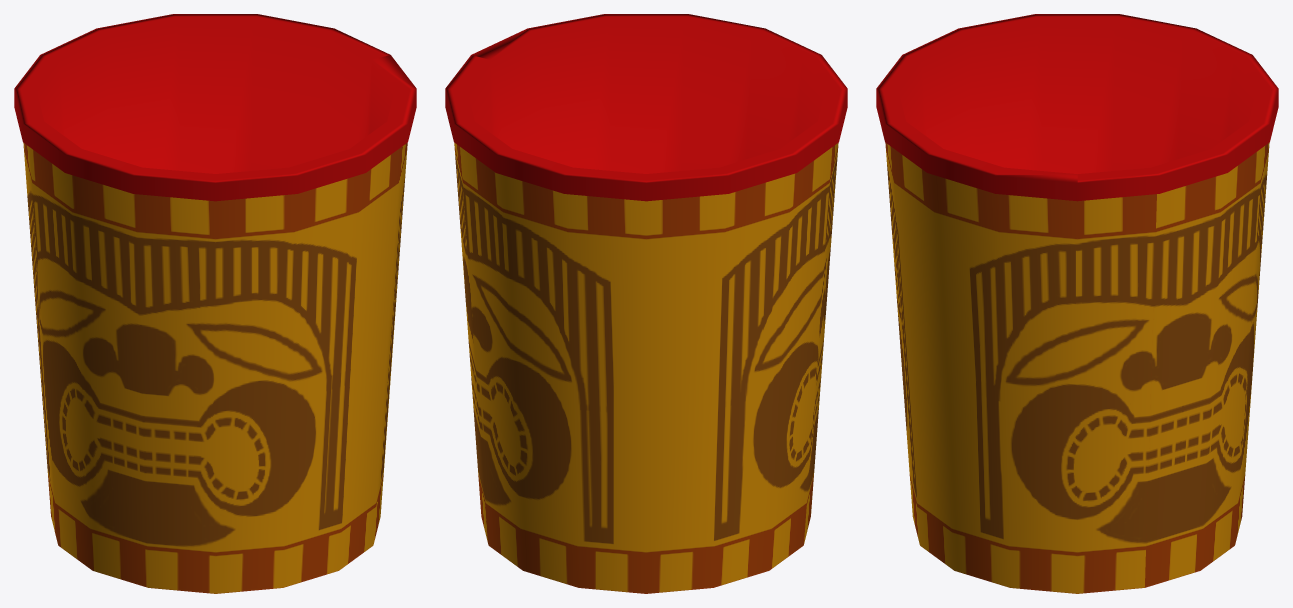
File: BeARPong_Cup_V.03.04.fbx
The picture shows the model from 3 angles, left to right: view 1: azimuth 30°, elevation 25°; view 2: azimuth 150°, elevation 25°; view 3: azimuth 270°, elevation 25°; orthographic projection.
Visible parts, largest first — view 1: pCylinder1; view 2: pCylinder1; view 3: pCylinder1.
Part boxes in pixels (bbox=[...]): pCylinder1: bbox=[14, 14, 416, 593]; pCylinder1: bbox=[445, 14, 847, 593]; pCylinder1: bbox=[876, 14, 1278, 593].
Size of the model in its own units: 0.1022 by 0.1201 by 0.1028.
